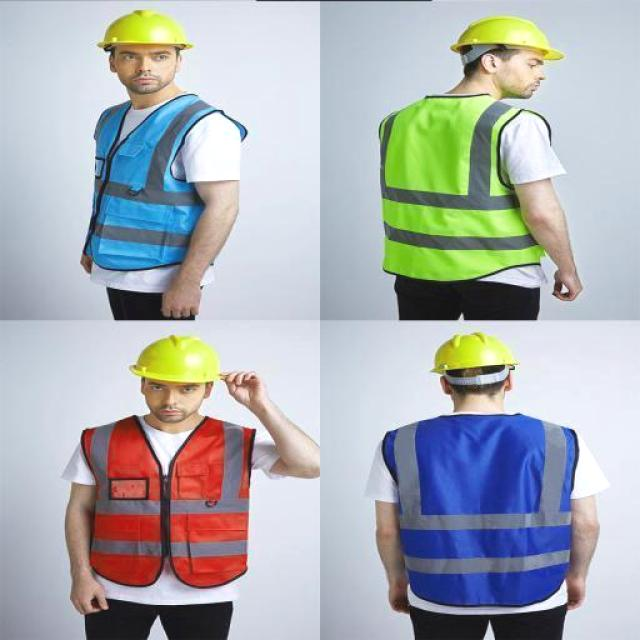face_nomask: (112, 45, 178, 91), (145, 380, 201, 421), (512, 54, 553, 96)
hand_noglove: (65, 572, 116, 619), (156, 276, 210, 320), (215, 366, 267, 406), (549, 258, 589, 308)
head_helmet: (445, 14, 566, 60), (126, 332, 229, 384), (94, 10, 196, 52), (422, 333, 522, 373)
person: (54, 331, 320, 640), (360, 327, 611, 640), (43, 9, 263, 322), (368, 11, 588, 320)
vest: (390, 416, 585, 604), (374, 91, 558, 290), (74, 405, 260, 583), (73, 90, 253, 270)
